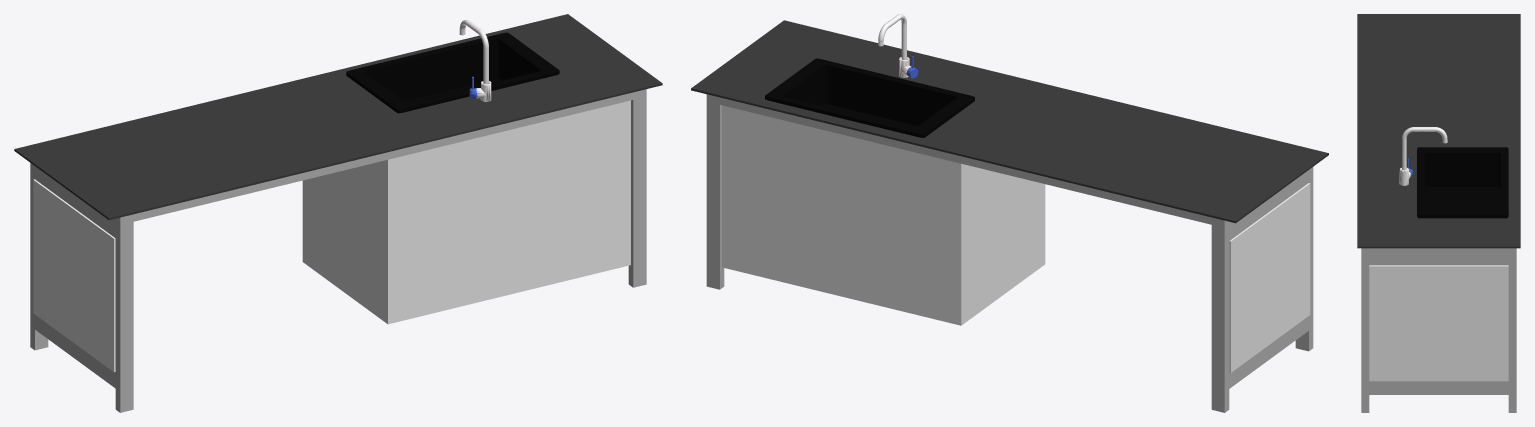
The model's file is lab-table.glb.
3 views of the same model, side by side, from view 1: azimuth 30°, elevation 25°; view 2: azimuth 150°, elevation 25°; view 3: azimuth 270°, elevation 25° (orthographic). The views are drawn at different scales.
Parts seen in each view (by area): view 1: upperLevel_BlackTableTop_0; view 2: upperLevel_BlackTableTop_0; view 3: upperLevel_BlackTableTop_0.
Boxes of the visible parts, bbox=[...] form: upperLevel_BlackTableTop_0: bbox=[14, 14, 662, 412]; upperLevel_BlackTableTop_0: bbox=[691, 14, 1328, 412]; upperLevel_BlackTableTop_0: bbox=[1357, 14, 1520, 412].
Size of the model in its own units: 2.7 by 1.24 by 0.7999.
1 material, 1 textured.
